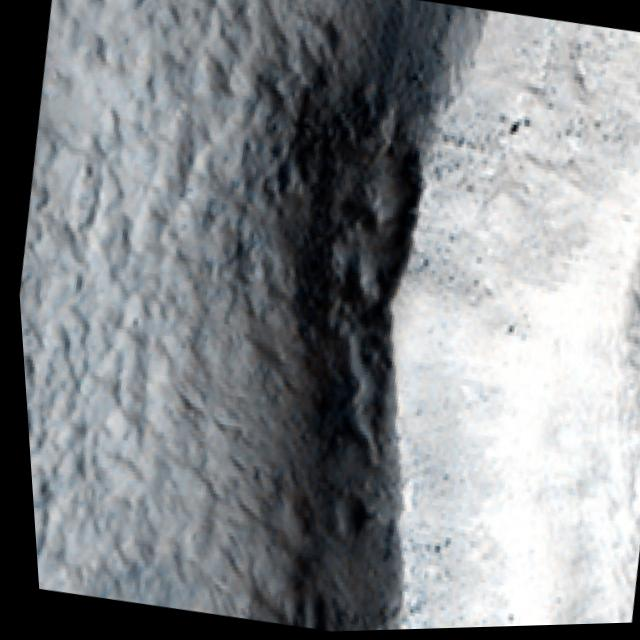Crater: (126, 0, 640, 637)
